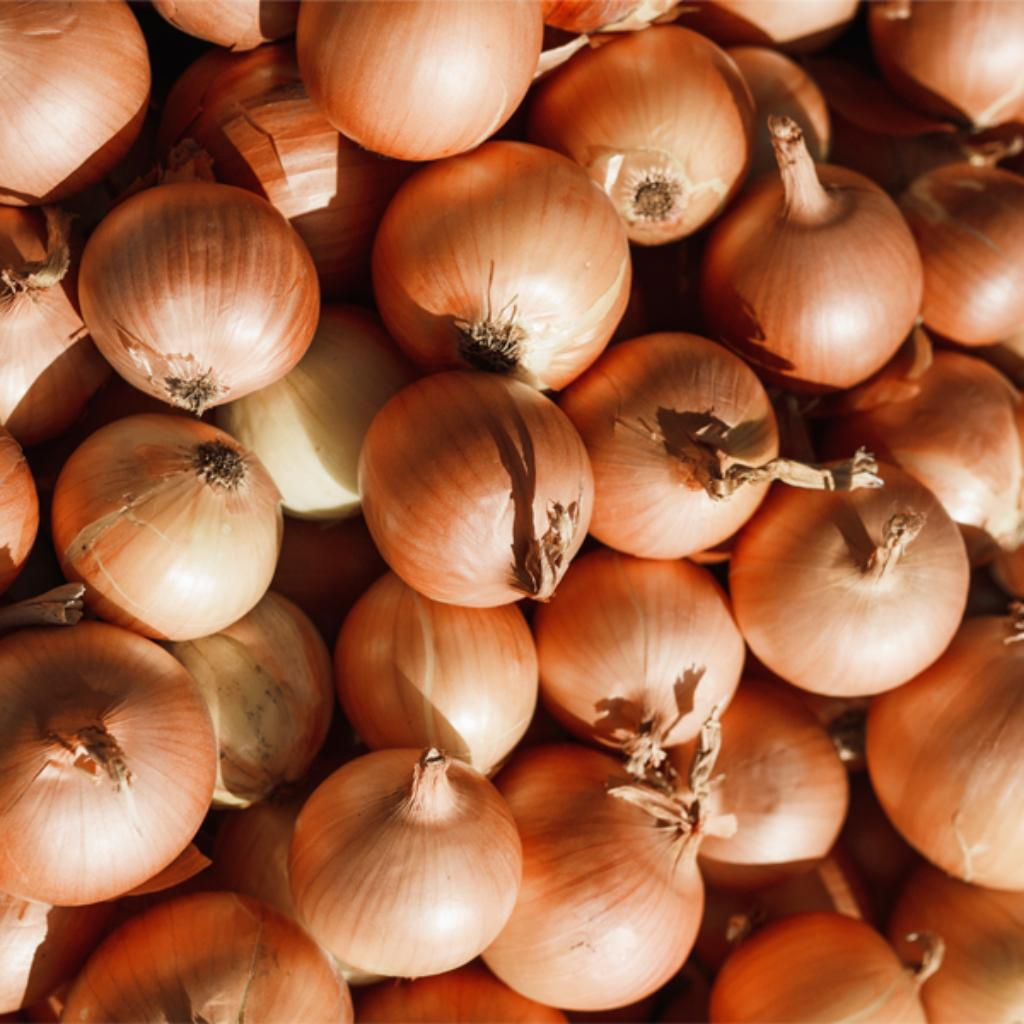Onion: (370, 142, 631, 393), (0, 621, 217, 908), (705, 116, 923, 396), (558, 333, 824, 560), (481, 742, 705, 1010), (725, 463, 969, 698), (79, 183, 317, 415), (360, 374, 594, 609), (49, 415, 283, 642), (290, 748, 521, 976), (526, 26, 756, 249), (538, 550, 746, 756), (333, 572, 539, 775), (295, 0, 543, 162)
